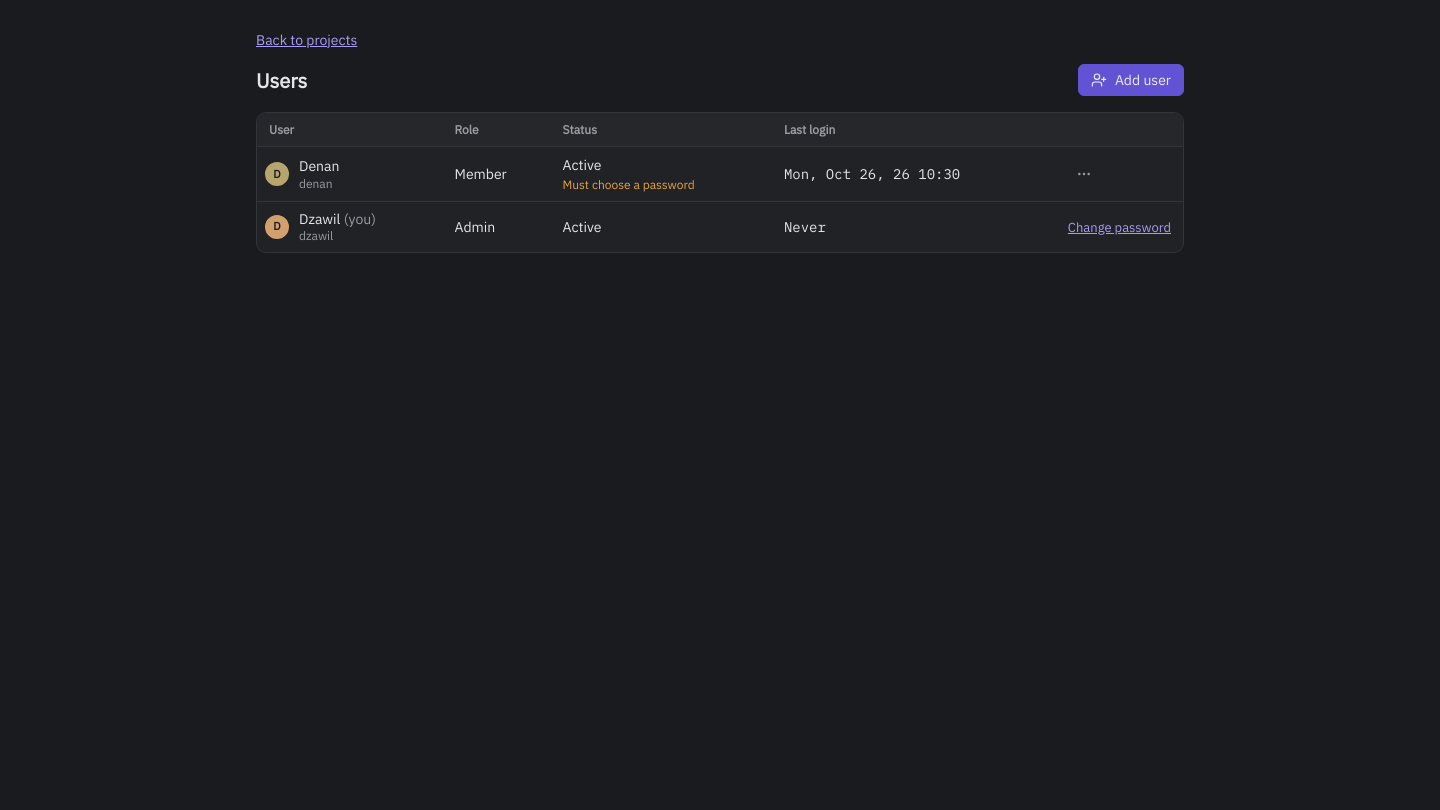
Scenario: UsersPage › resets a password after confirming
Click the button named "Actions for Denan" at (1084, 174), box left=1068, top=158, right=1100, bottom=190
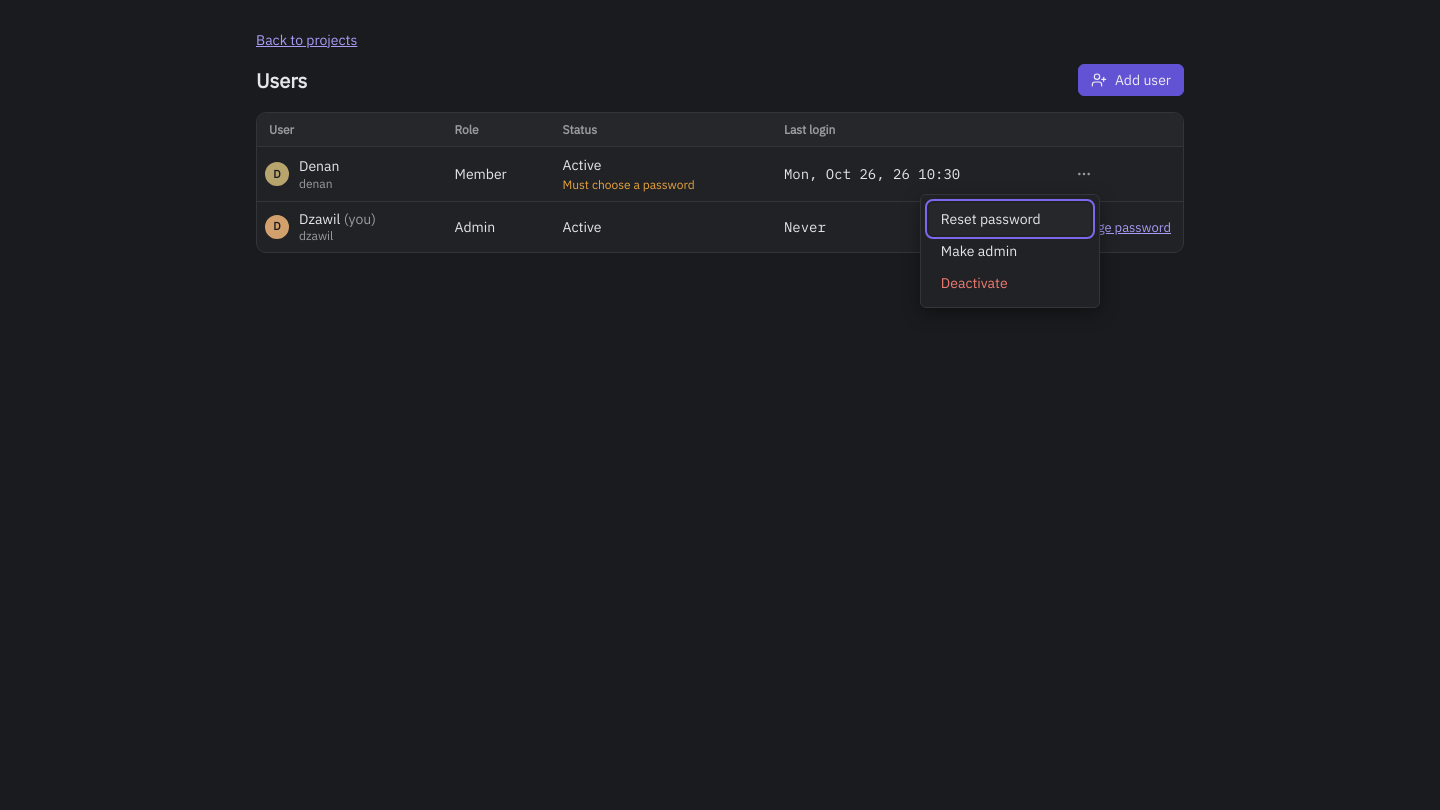
Click the menu item "Reset password" at (1010, 219), box left=929, top=203, right=1091, bottom=235
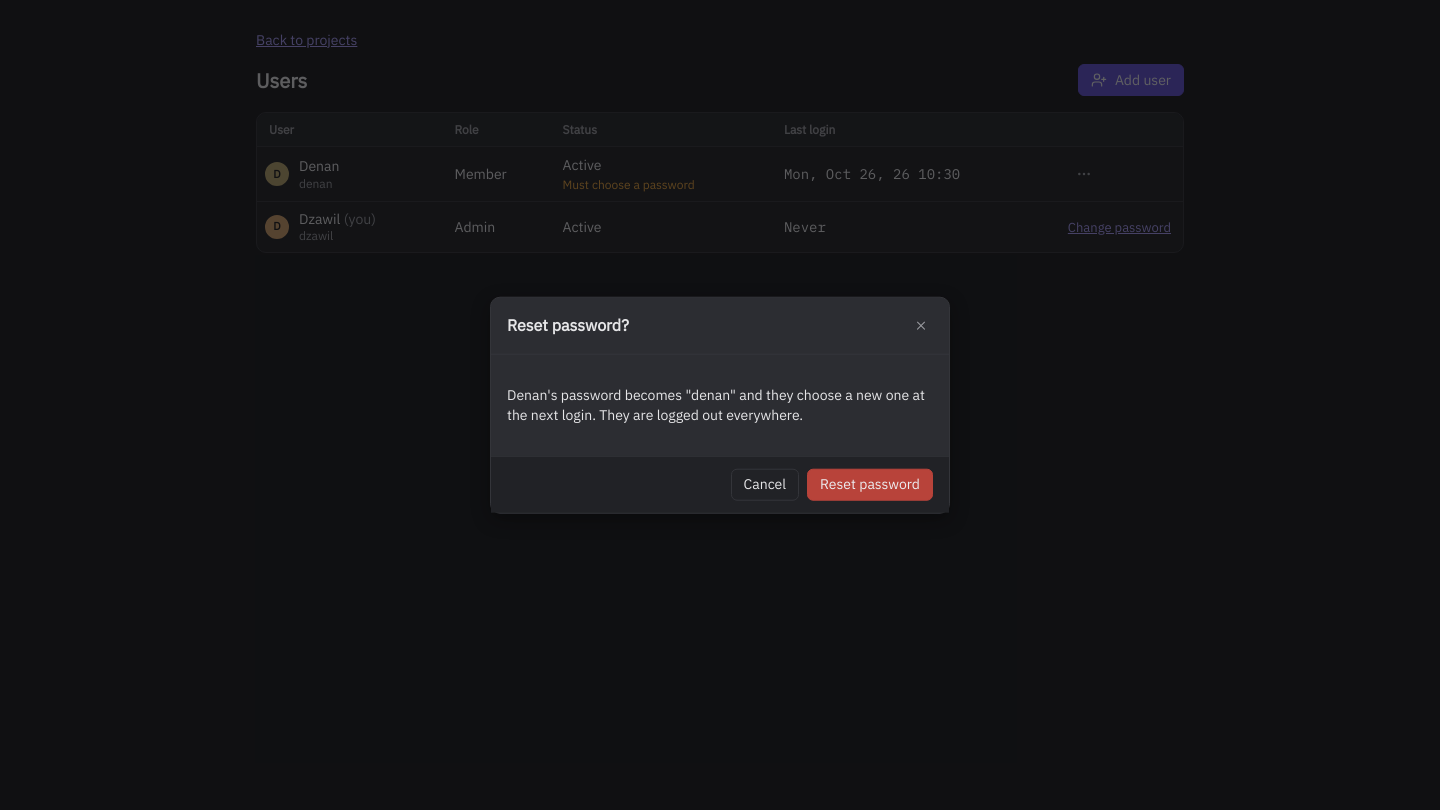
Expected: the text "password becomes \"denan\"" is shown, left=507, top=385, right=933, bottom=425
Click the button "Reset password" at (870, 484), box left=807, top=468, right=933, bottom=500
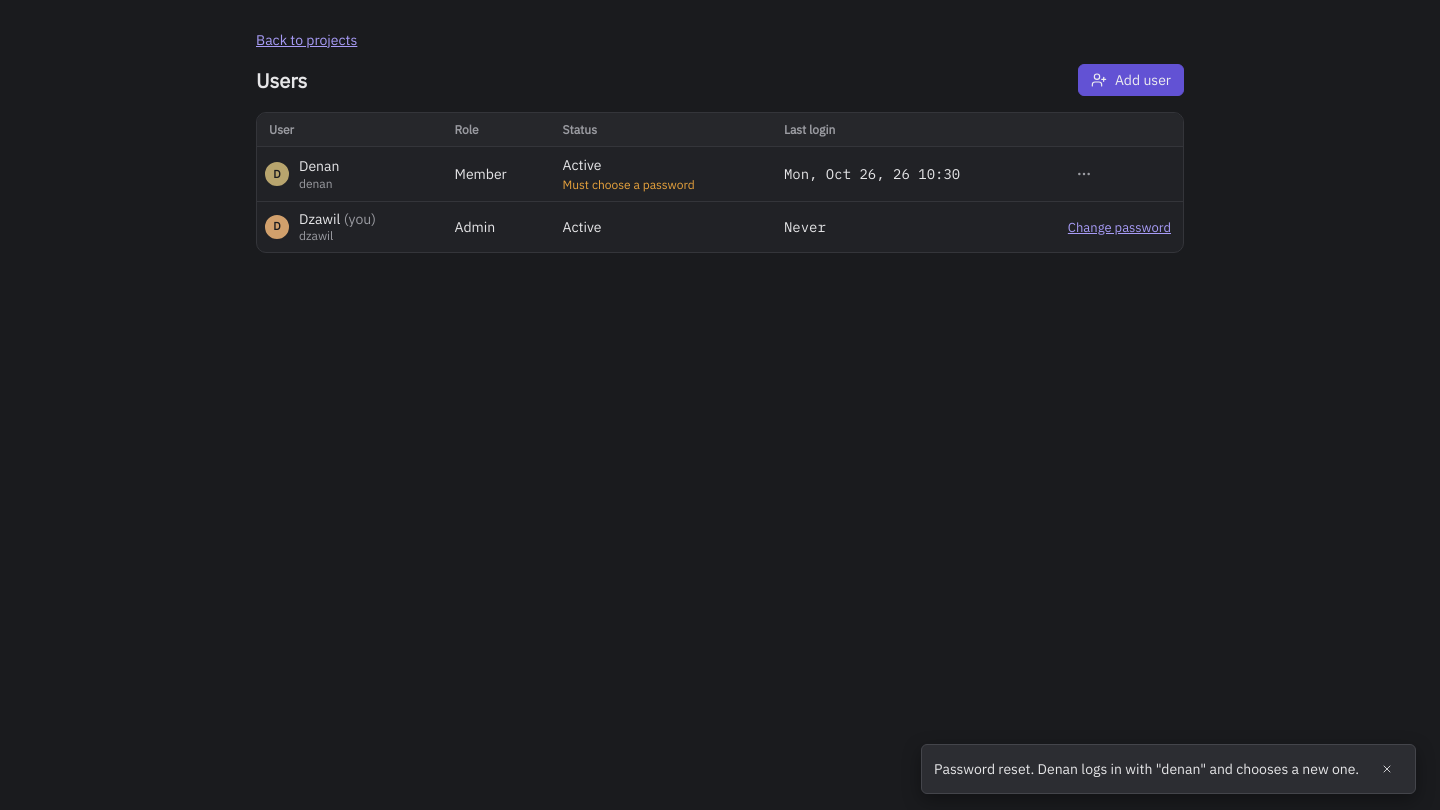
Expected: the text "Password reset. Denan logs in with \"denan\"" is shown, left=934, top=760, right=1359, bottom=778
